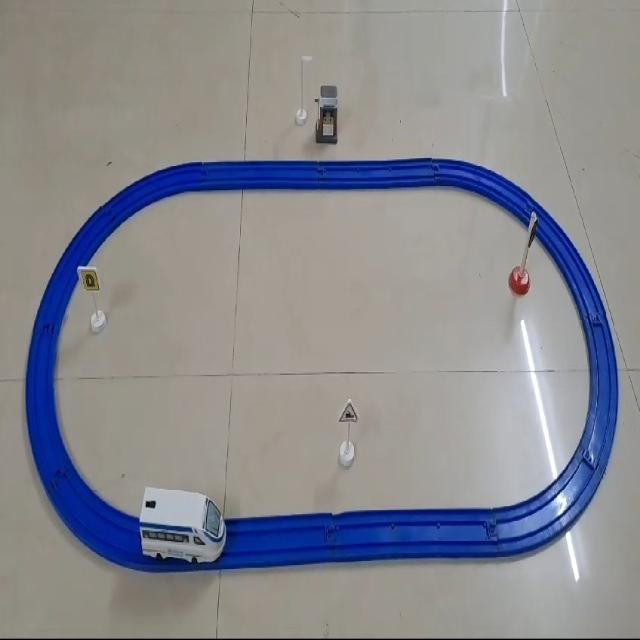bus: (138, 484, 227, 564)
